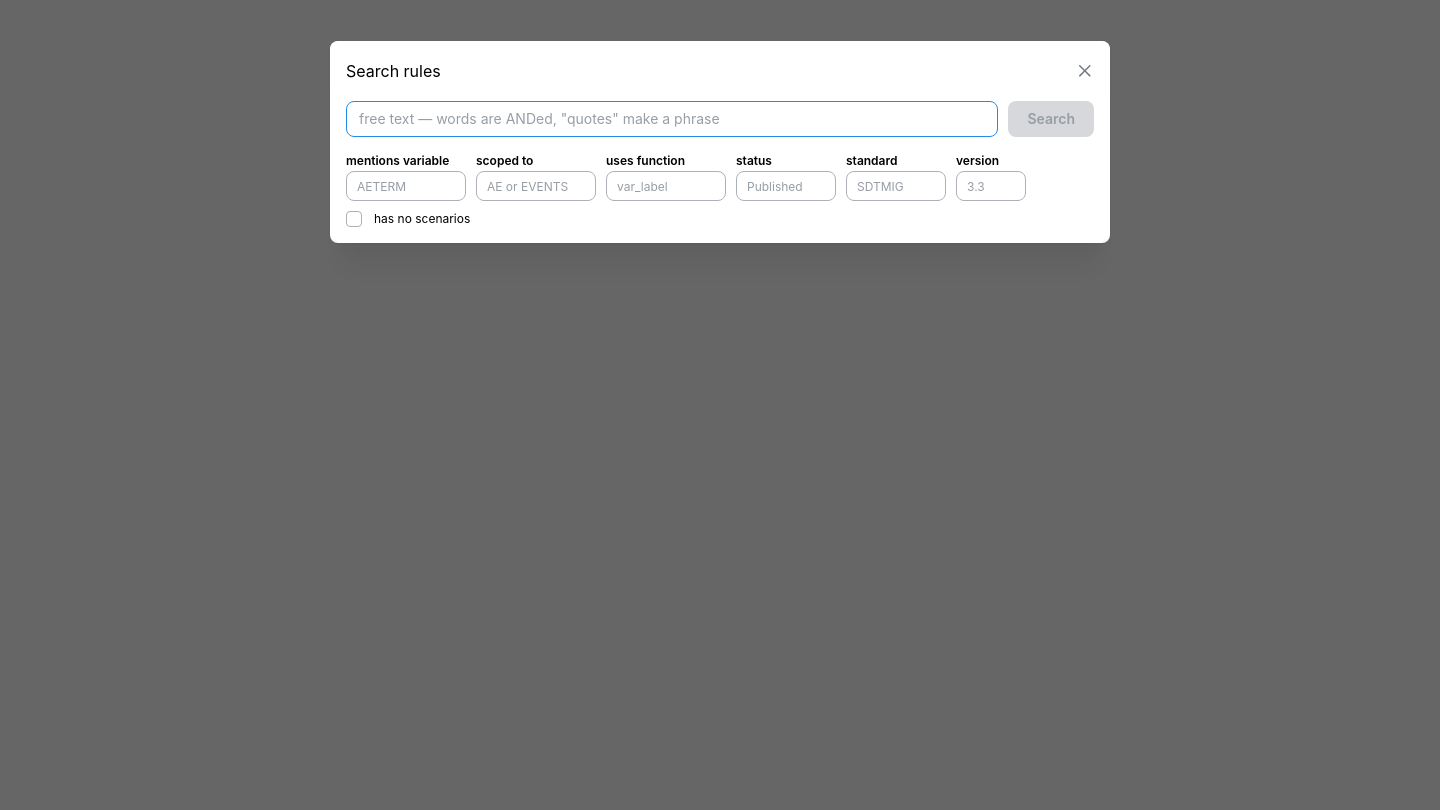
Test case: SearchDialog › says when nothing matches, and reports a server problem
Type "nothing-here" into the field named "Search text".
click(672, 118); type("nothing-here")  # box [346,100,998,136]
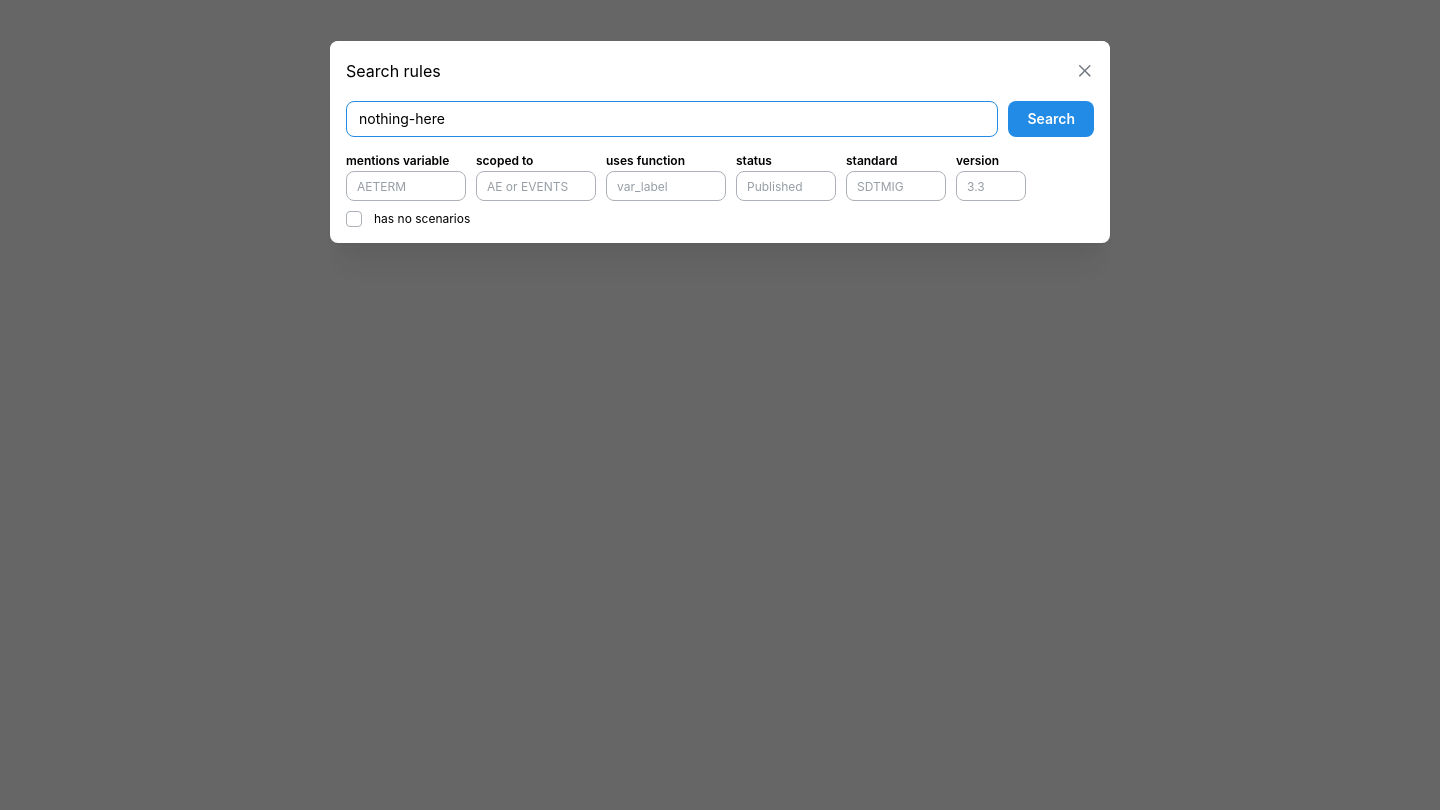
Click the button "Search".
click(1051, 118)  # box [1008,100,1094,136]
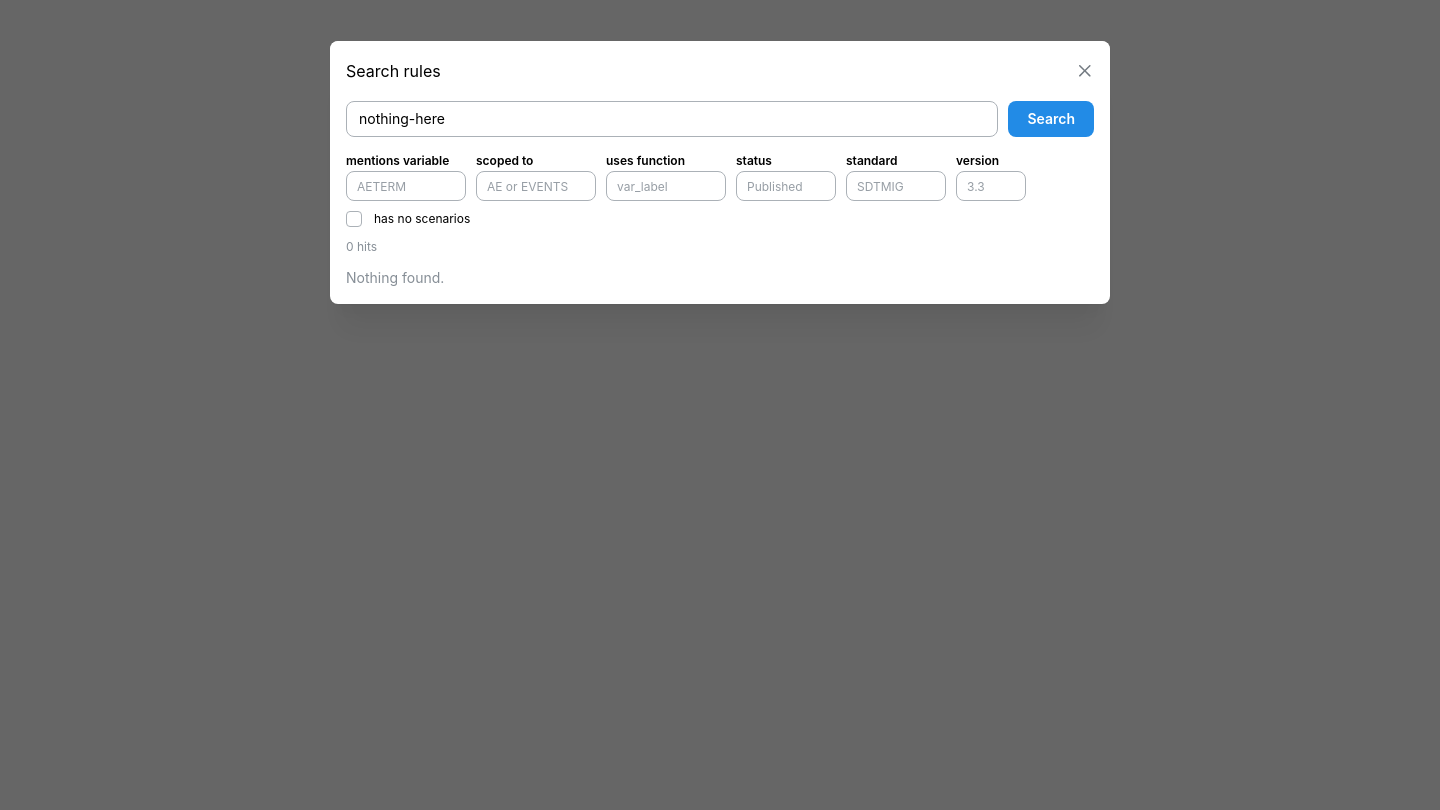
Expected: the text "Nothing found." is shown, [346,269,444,286]
Expected: the text "0 hits" is shown, [346,239,377,254]
Click the button "Search".
click(1051, 118)  # box [1008,100,1094,136]
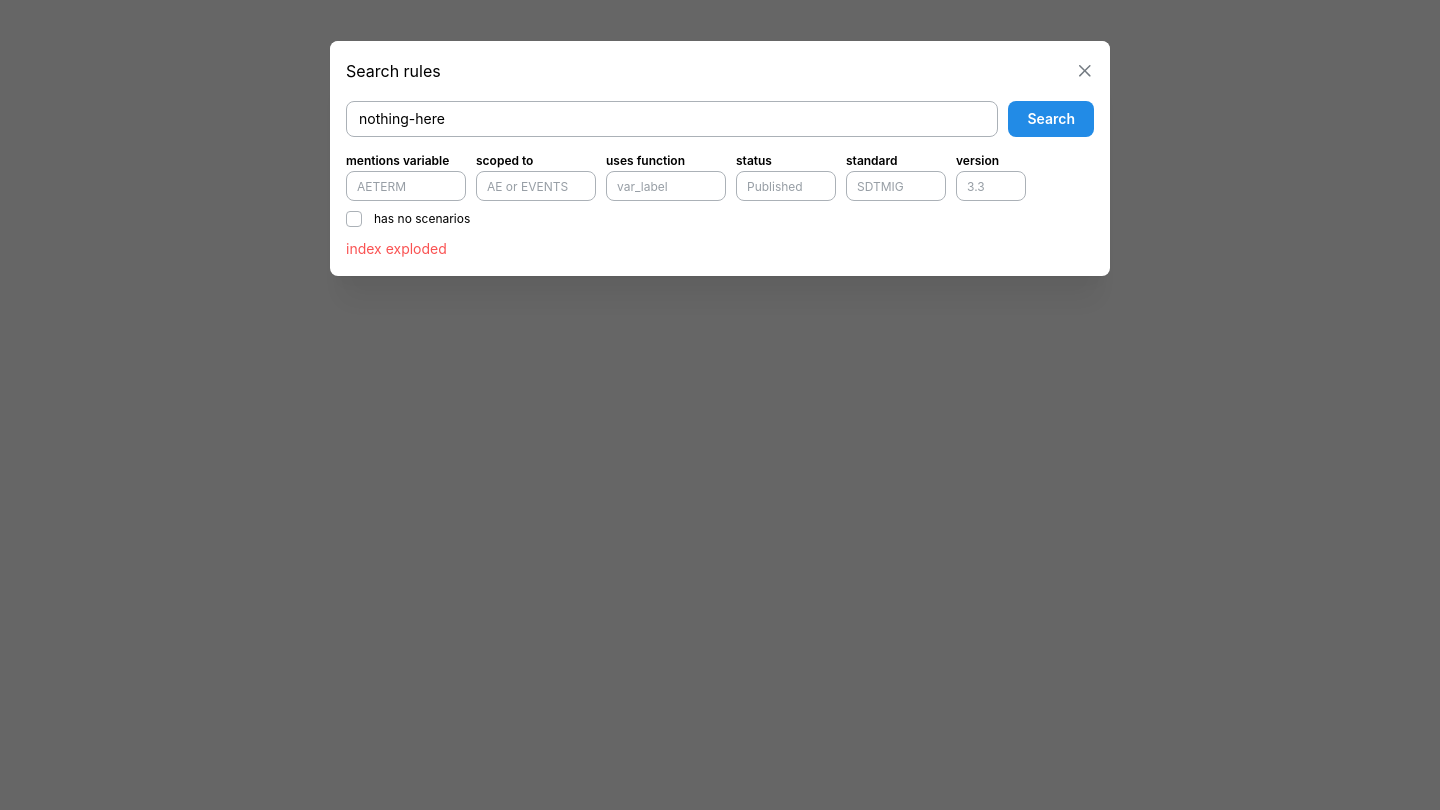
Expected: the text "index exploded" is shown, [346,240,447,257]
Expected: the text "0 hits" is gone
